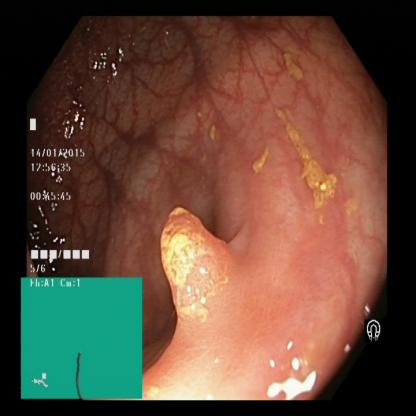Labels: (21, 278, 143, 401), (23, 111, 96, 278), (356, 305, 390, 351)
Polyps: (152, 201, 231, 322)
